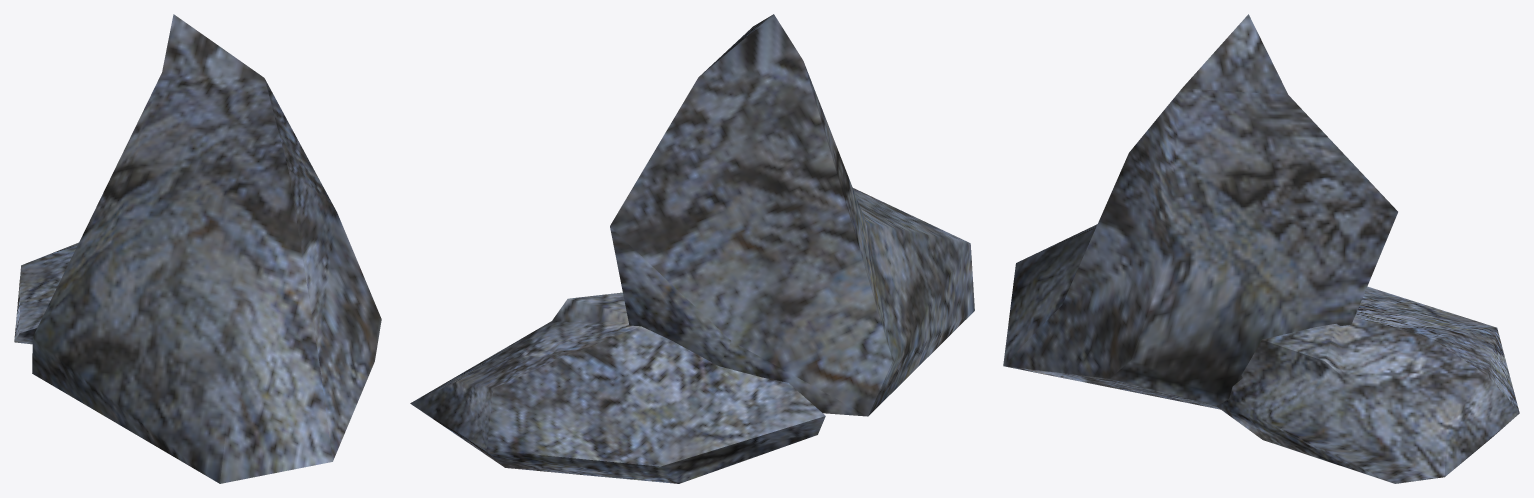
File: Rock_4.fbx
The picture shows the model from 3 angles, left to right: view 1: azimuth 30°, elevation 25°; view 2: azimuth 150°, elevation 25°; view 3: azimuth 270°, elevation 25°; orthographic projection. The views are drawn at different scales.
Visible parts, largest first — view 1: Detal329; view 2: Detal329; view 3: Detal329.
Boxes of the visible parts, x1,y1,x2,y2 form: Detal329: (14,14,381,483); Detal329: (410,14,974,483); Detal329: (1003,14,1519,483).
Bounding box in the file's own units: 679 × 652 × 843.
